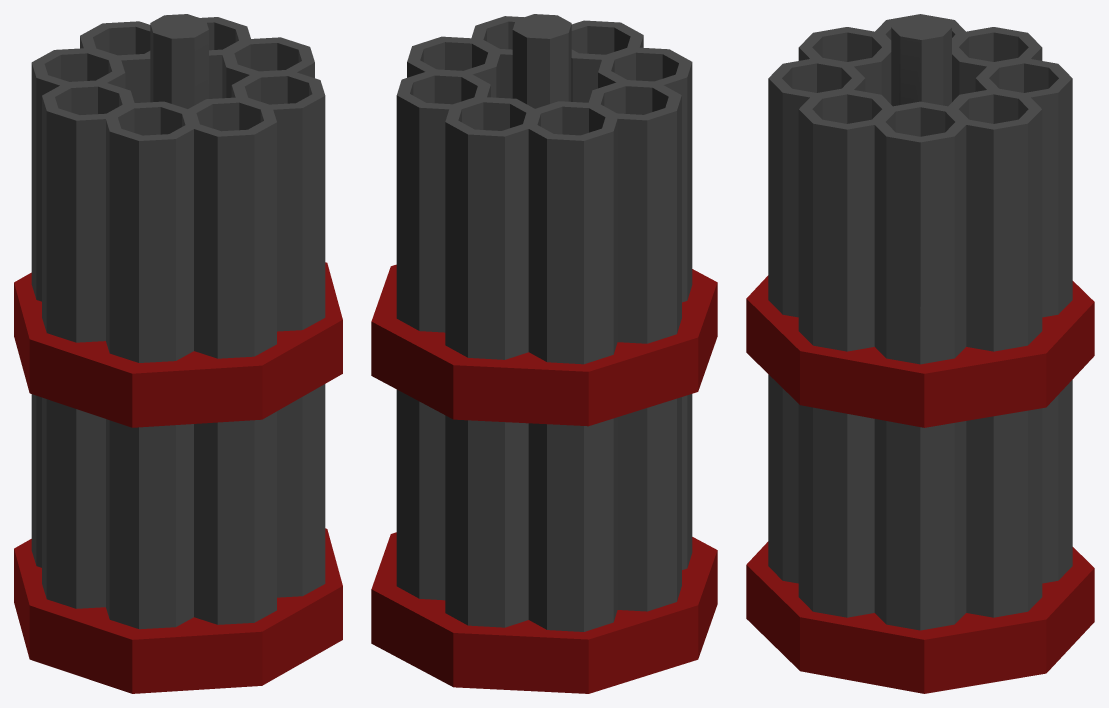
File: minigun-Complete.fbx
The picture shows the model from 3 angles, left to right: view 1: azimuth 30°, elevation 25°; view 2: azimuth 150°, elevation 25°; view 3: azimuth 270°, elevation 25°; orthographic projection.
Visible parts, largest first — view 1: Cylinder; view 2: Cylinder; view 3: Cylinder.
Boxes of the visible parts, x1,y1,x2,y2 form: Cylinder: [14, 14, 342, 693]; Cylinder: [371, 14, 717, 693]; Cylinder: [746, 14, 1094, 693].
Size of the model in its own units: 1.13 by 2.13 by 1.13.
